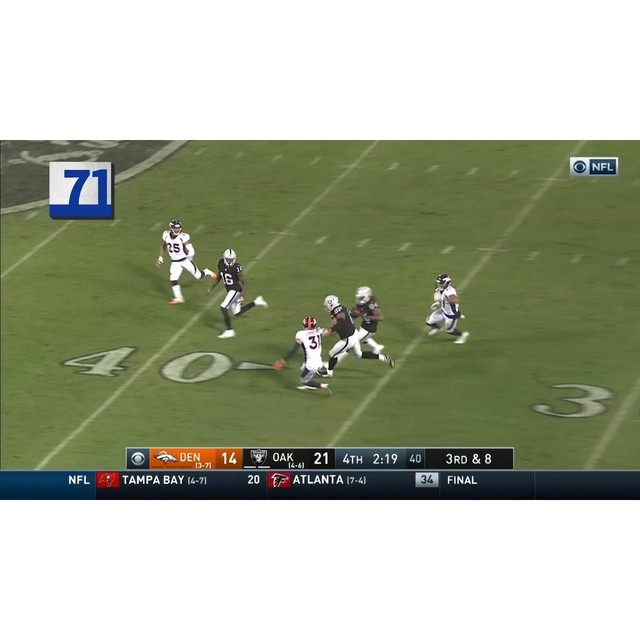american-football-player: (322, 294, 392, 378), (207, 249, 269, 338), (156, 220, 215, 302), (282, 317, 334, 395), (423, 273, 472, 346), (351, 288, 388, 357)
